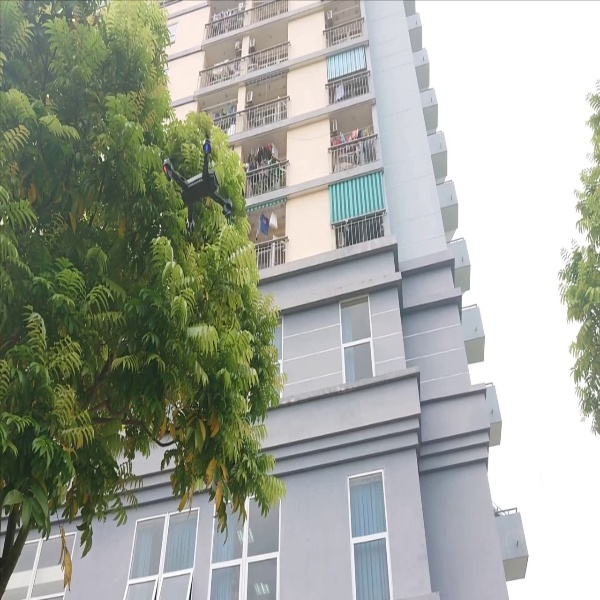drone: (158, 125, 241, 236)
